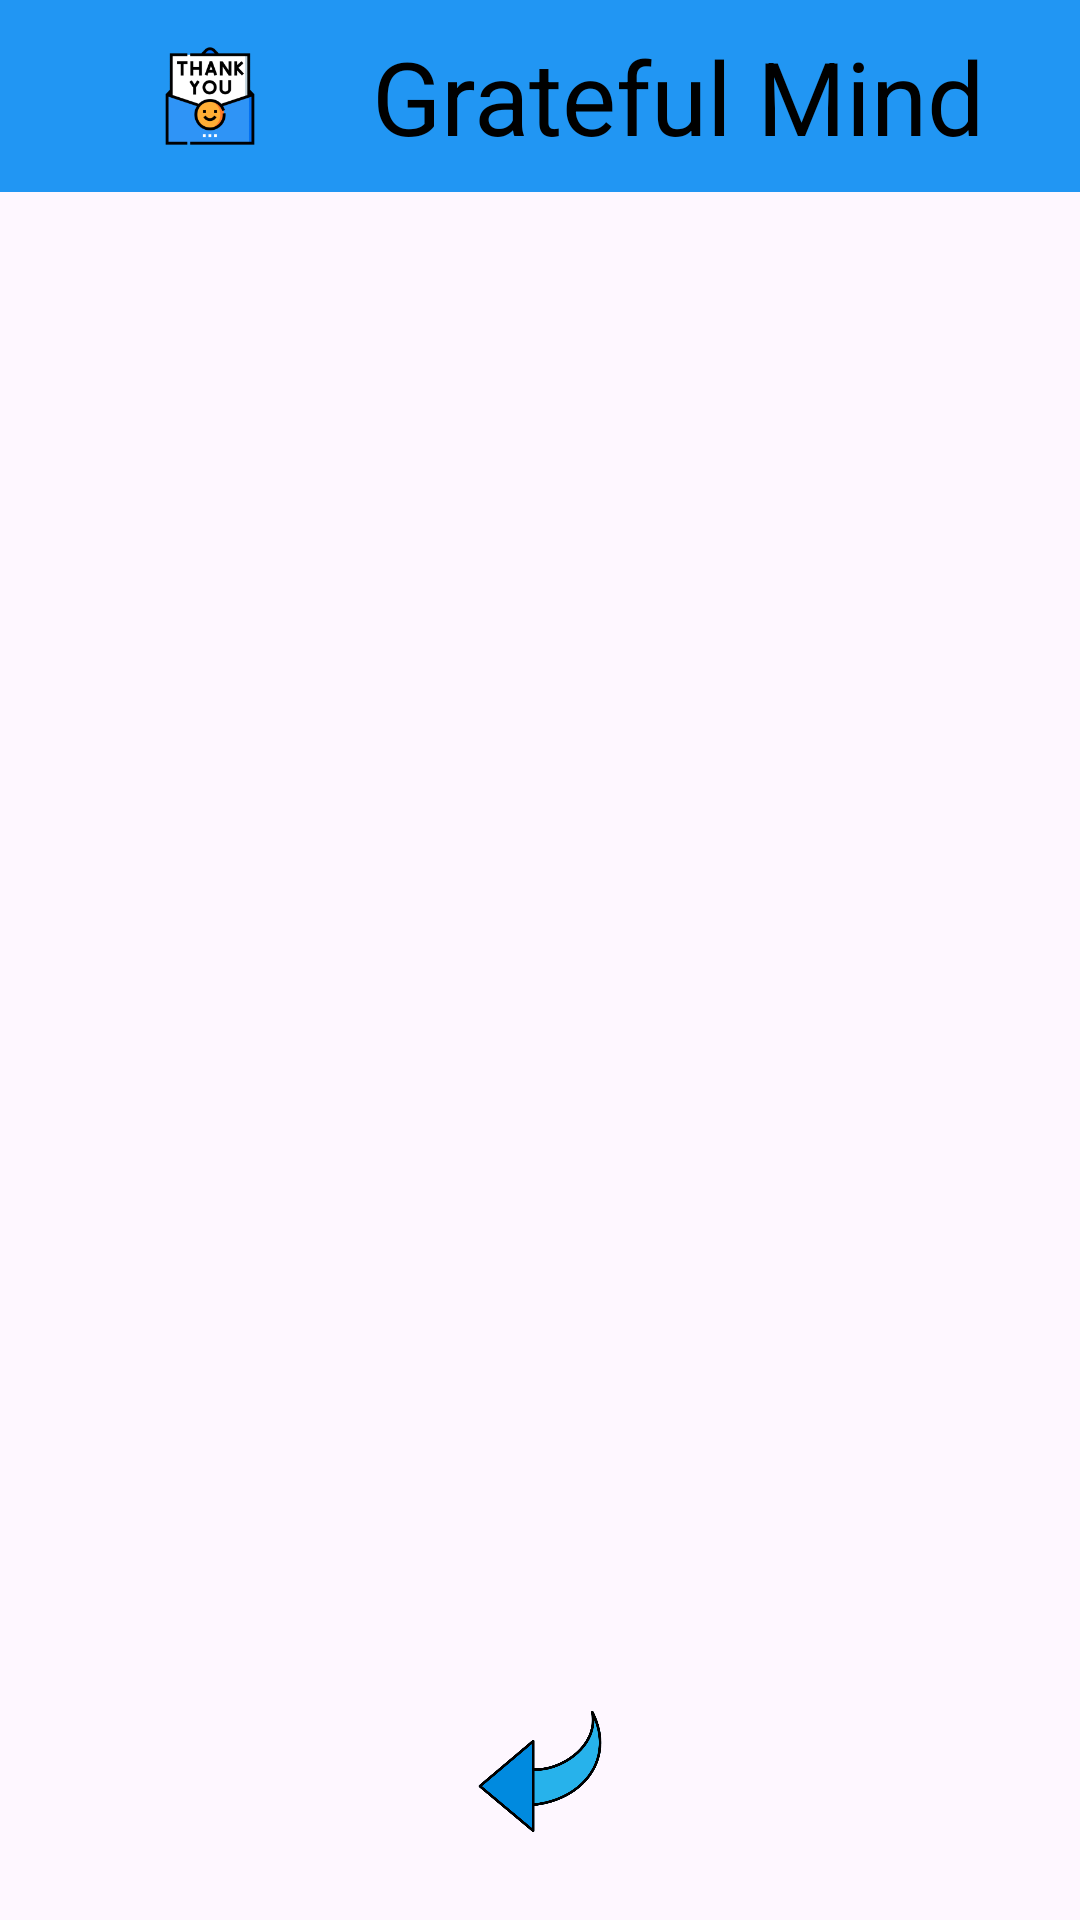

Locate icon controls on the screen. Image size 1080 x 1920, boxes as region(x1, y1, x2, y2).
Volver: region(478, 1711, 602, 1832)
